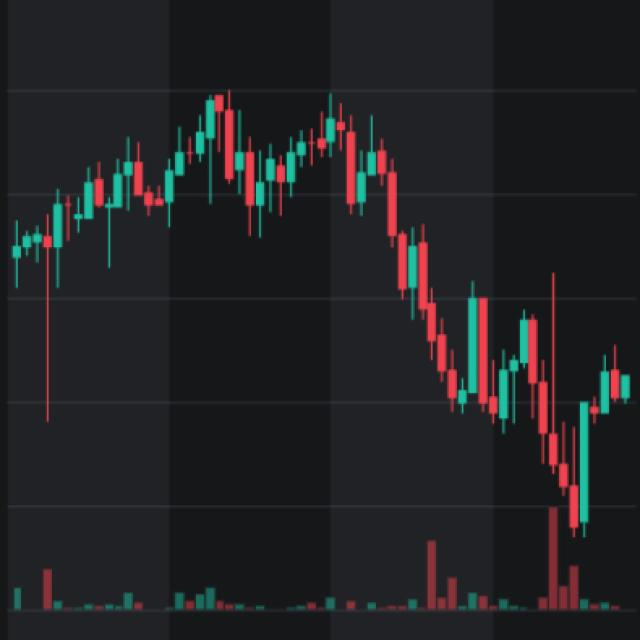Support-breakout: (160, 95, 465, 412)
